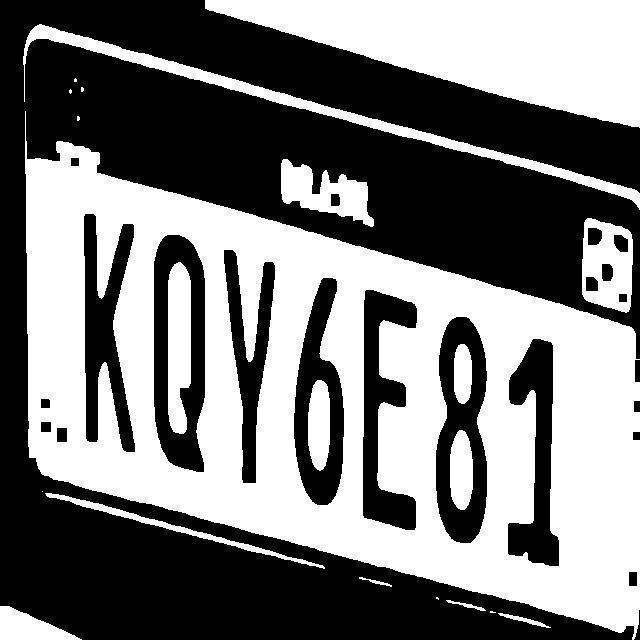1: (503, 316, 562, 578)
6: (290, 252, 350, 520)
8: (434, 290, 491, 556)
e: (361, 269, 420, 544)
k: (76, 207, 140, 468)
q: (148, 217, 210, 489)
y: (220, 243, 278, 514)
